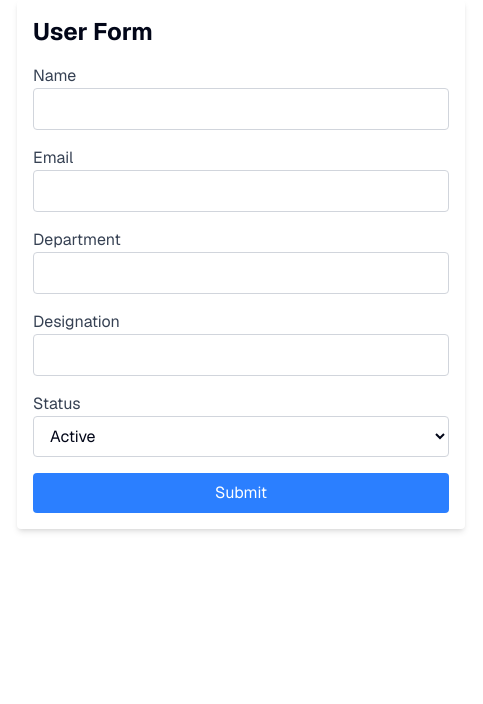
Test: UserForm Component › shows submit successful when form is filled correctly and submitted
Type "Adarsh Kaul" into the field labelled "Name". click: [241, 109]
box: [33, 88, 449, 130]
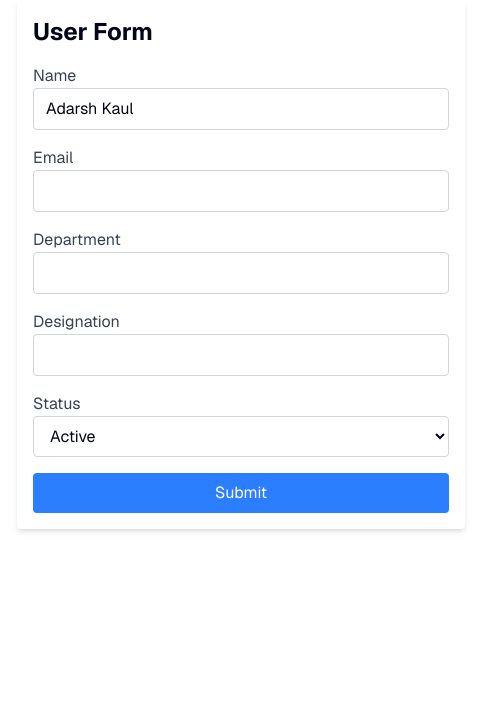
Type "adarsh.kaul@example.com" into the field labelled "Email". click: [241, 191]
box: [33, 170, 449, 212]
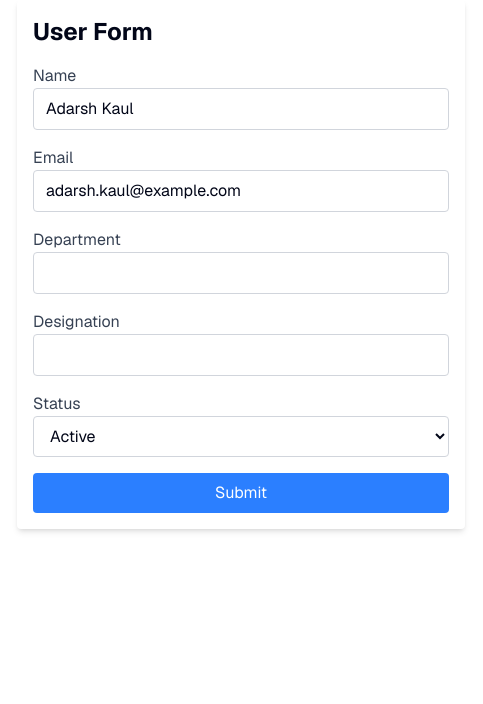
Type "Engineering" into the field labelled "Department". click: [241, 273]
box: [33, 252, 449, 294]
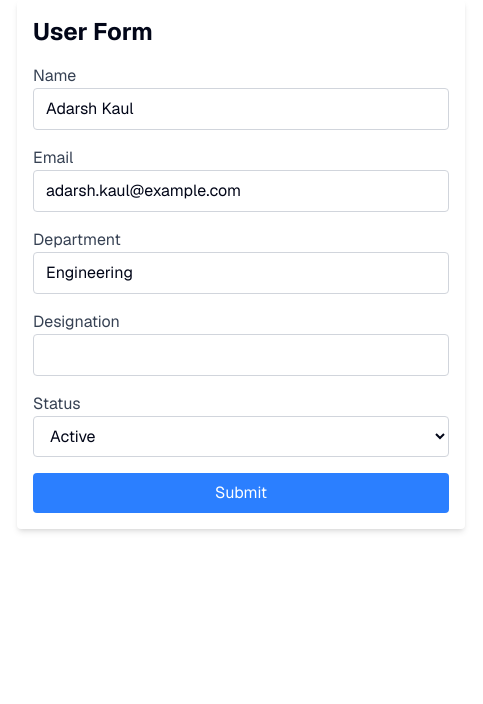
Type "Software Engineer" into the field labelled "Designation". click: [241, 355]
box: [33, 334, 449, 376]
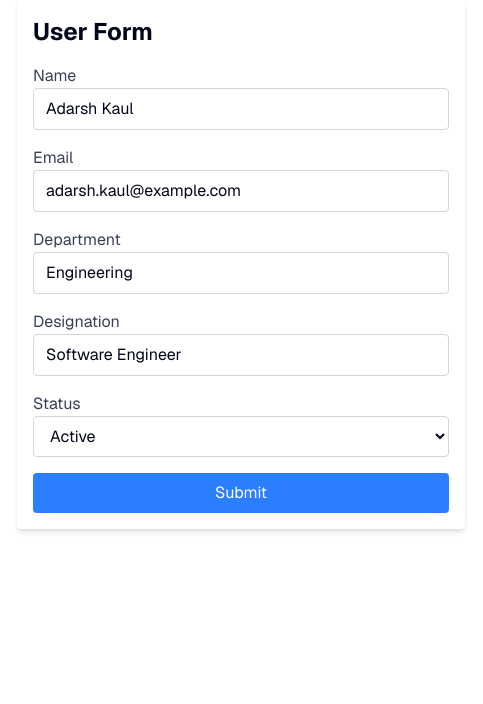
Select "Active" in the dropdown labelled "Status". click: [241, 436]
box: [33, 416, 449, 457]
Click the button "Submit". click: [241, 493]
box: [33, 473, 449, 513]
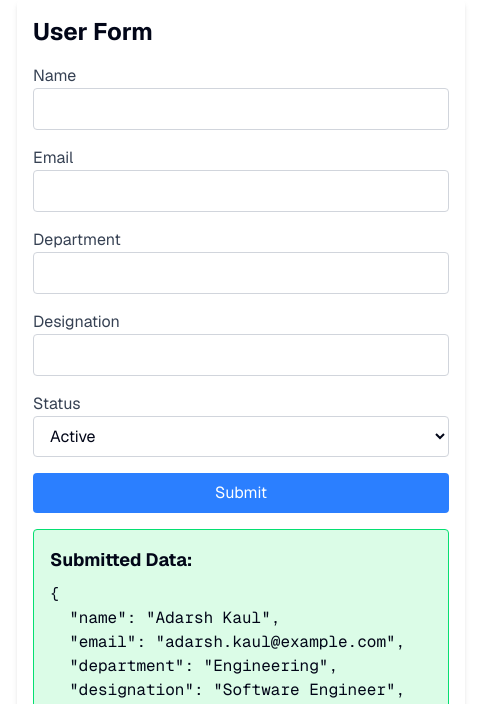
expect the heading "Submitted Data:" is shown: met, box [50, 548, 192, 571]
